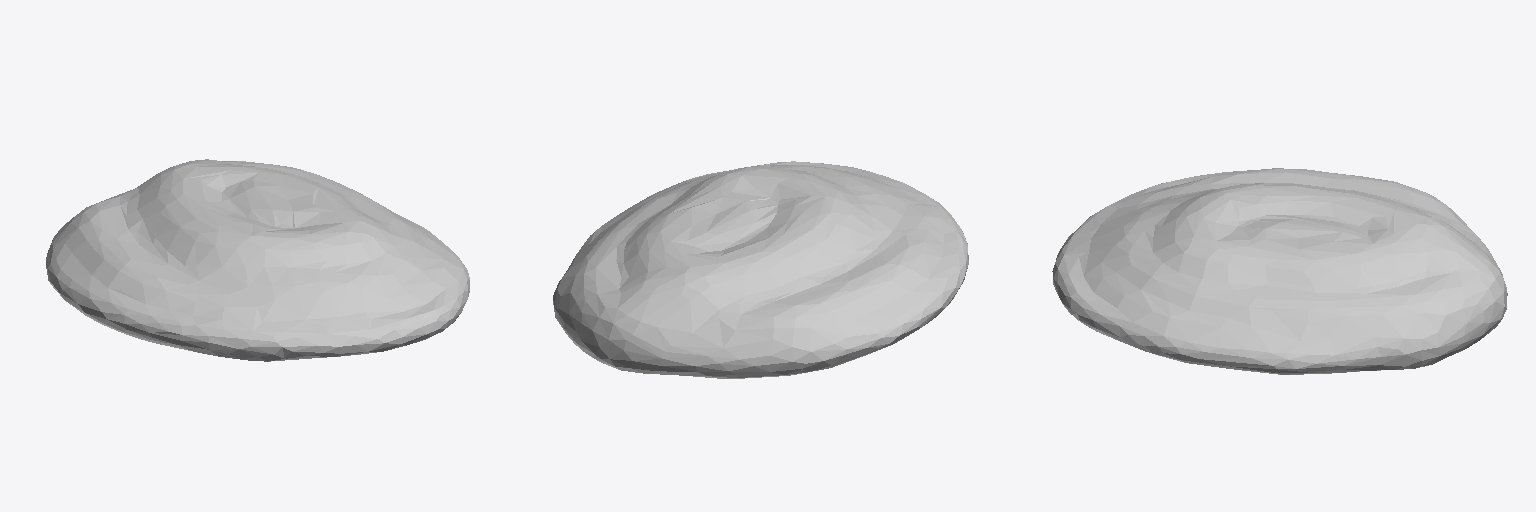
Rendered from islandbase.obj.
3 views of the same model, side by side, from view 1: azimuth 30°, elevation 25°; view 2: azimuth 150°, elevation 25°; view 3: azimuth 270°, elevation 25° (orthographic).
Parts seen in each view (by area): view 1: Deserted_Island_LAIG_Final.001; view 2: Deserted_Island_LAIG_Final.001; view 3: Deserted_Island_LAIG_Final.001.
Part boxes in pixels (x1,y1,x2,y2): Deserted_Island_LAIG_Final.001: (46,159,469,361); Deserted_Island_LAIG_Final.001: (553,161,968,378); Deserted_Island_LAIG_Final.001: (1052,168,1507,374).
Size of the model in its own units: 88.12 by 22.79 by 98.86.